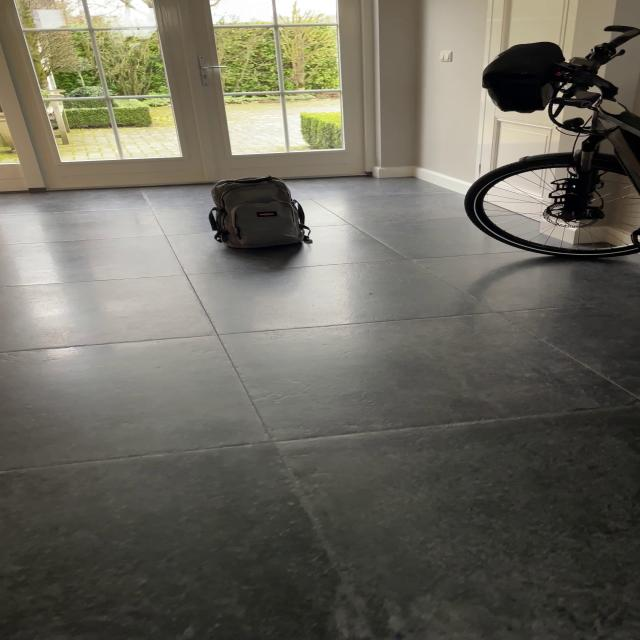backpack: (202, 172, 310, 252)
